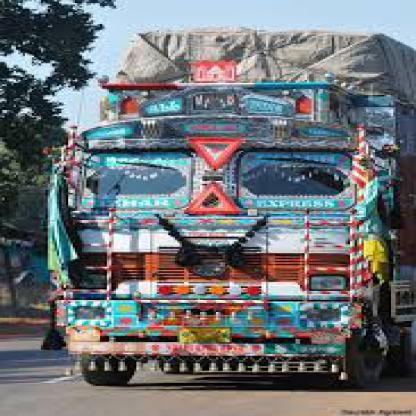truck: (50, 26, 411, 387)
